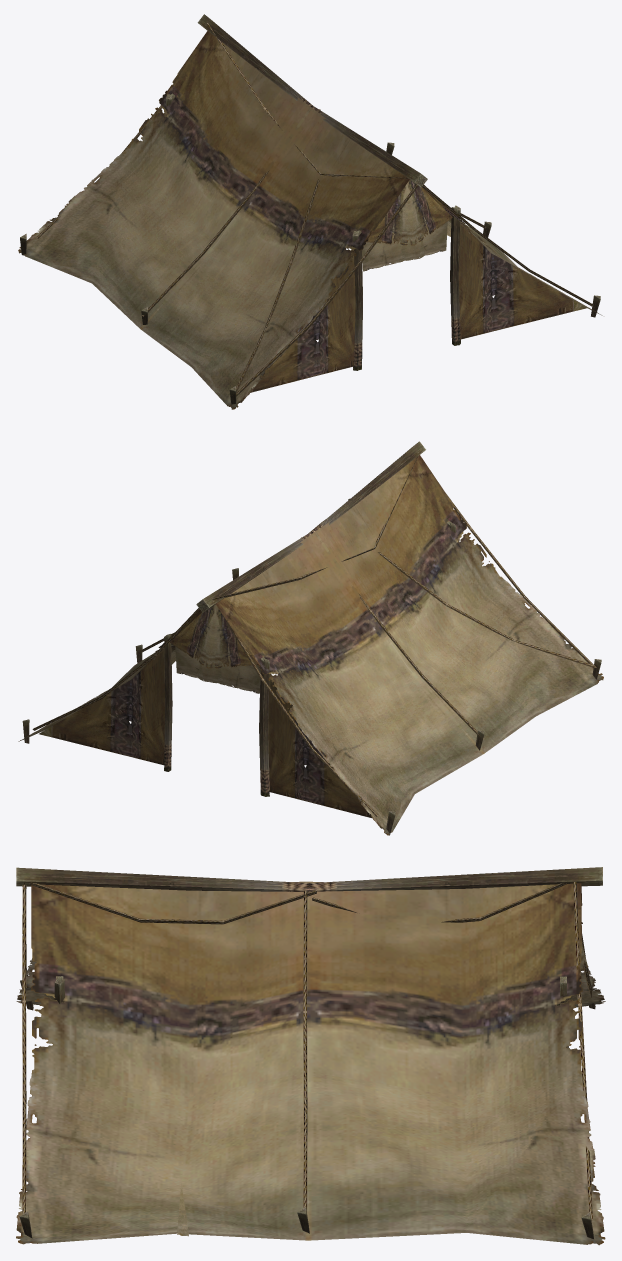
Rendered from zhangpeng02.FBX.
The picture shows the model from 3 angles, top to bottom: view 1: azimuth 30°, elevation 25°; view 2: azimuth 150°, elevation 25°; view 3: azimuth 270°, elevation 25°; orthographic projection. The views are drawn at different scales.
Parts seen in each view (by area): view 1: zhangpeng01; view 2: zhangpeng01; view 3: zhangpeng01.
Boxes of the visible parts, x1=… form: zhangpeng01: x1=18, y1=14, x2=602, y2=409; zhangpeng01: x1=18, y1=441, x2=603, y2=835; zhangpeng01: x1=16, y1=867, x2=605, y2=1245.
Bounding box in the file's own units: 34.23 × 17.02 × 34.65.
